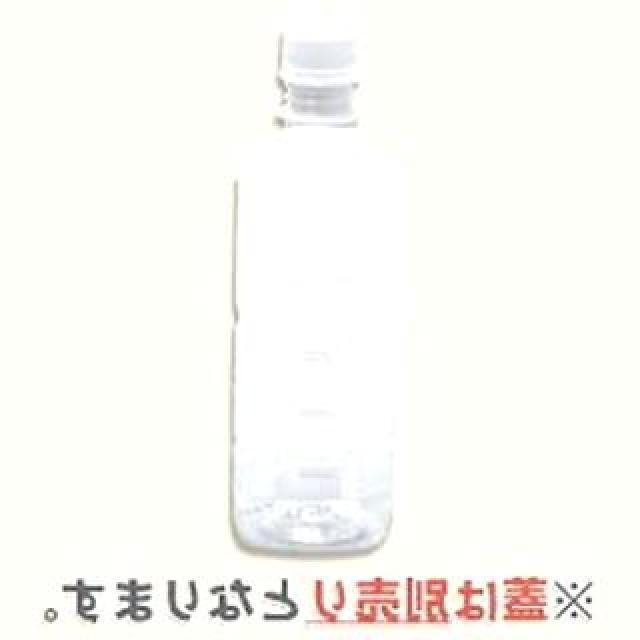Pet_Bottle: (208, 16, 394, 570)
